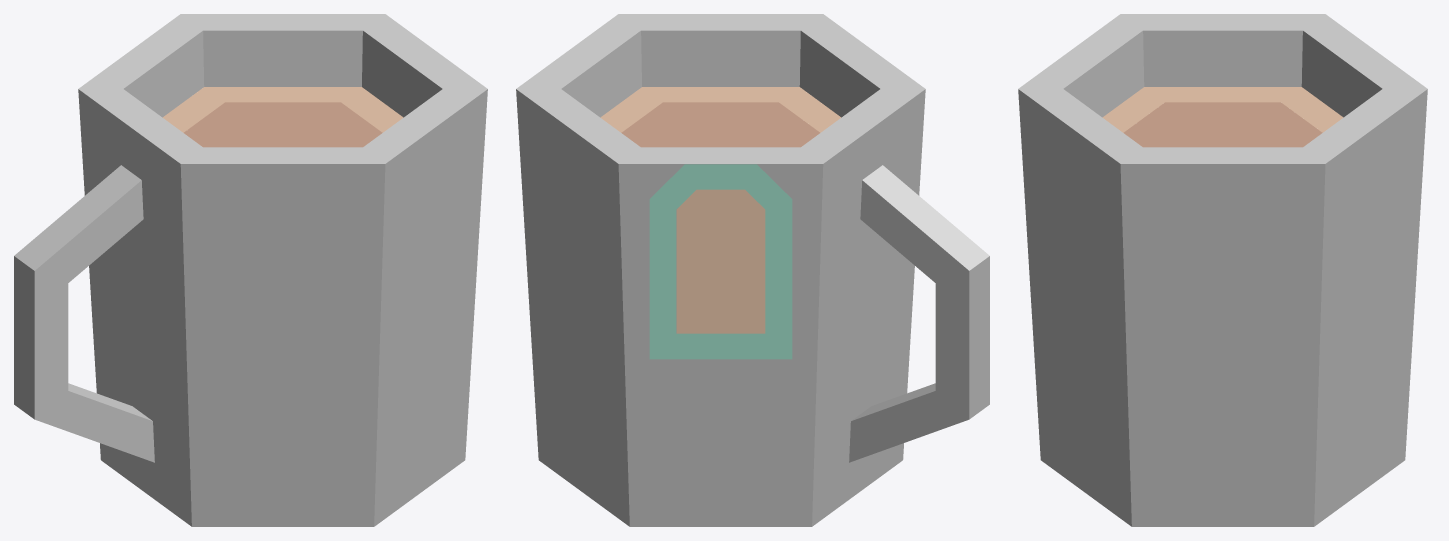
Rendered from cup-thea.glb.
The picture shows the model from 3 angles, left to right: view 1: azimuth 30°, elevation 25°; view 2: azimuth 150°, elevation 25°; view 3: azimuth 270°, elevation 25°; orthographic projection.
Parts seen in each view (by area): view 1: cupThea; view 2: cupThea, label; view 3: cupThea.
Part boxes in pixels (x1=…): cupThea: x1=14, y1=14, x2=487, y2=526; cupThea: x1=516, y1=14, x2=989, y2=526; label: x1=649, y1=164, x2=792, y2=359; cupThea: x1=1018, y1=14, x2=1427, y2=526.
Size of the model in its own units: 0.2325 by 0.2 by 0.2034.
